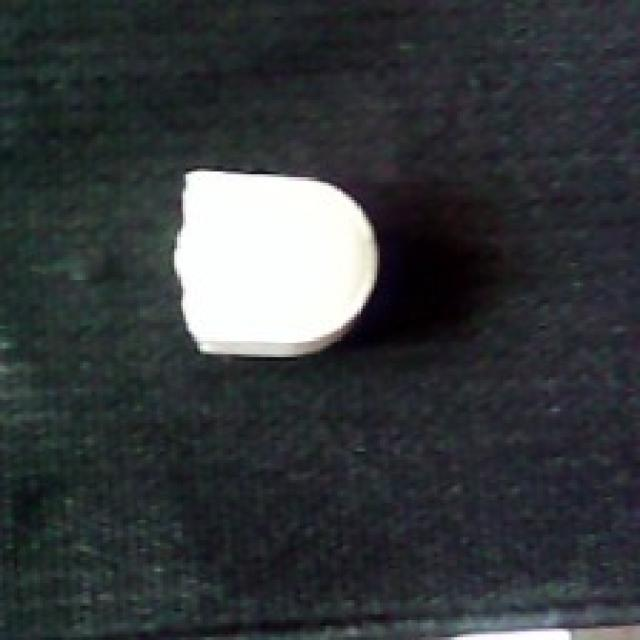defected: (168, 157, 386, 363)
